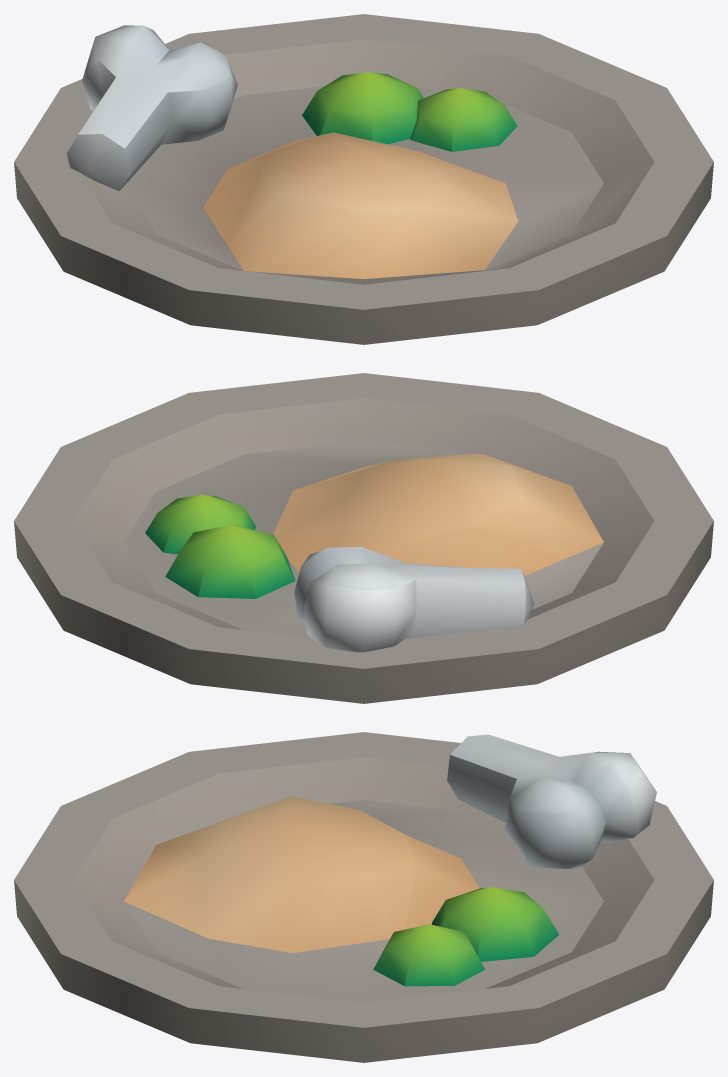
File: plate_food_B.gltf
The picture shows the model from 3 angles, top to bottom: view 1: azimuth 30°, elevation 25°; view 2: azimuth 150°, elevation 25°; view 3: azimuth 270°, elevation 25°; orthographic projection.
Parts seen in each view (by area): view 1: plate_food_B; view 2: plate_food_B; view 3: plate_food_B.
Part boxes in pixels (box(x1,y1,x2,y2)): plate_food_B: box(14, 14, 713, 344); plate_food_B: box(14, 373, 713, 703); plate_food_B: box(14, 732, 713, 1062).
Bounding box in the file's own units: 0.9706 × 0.2361 × 0.9706.
1 material, 1 textured.
